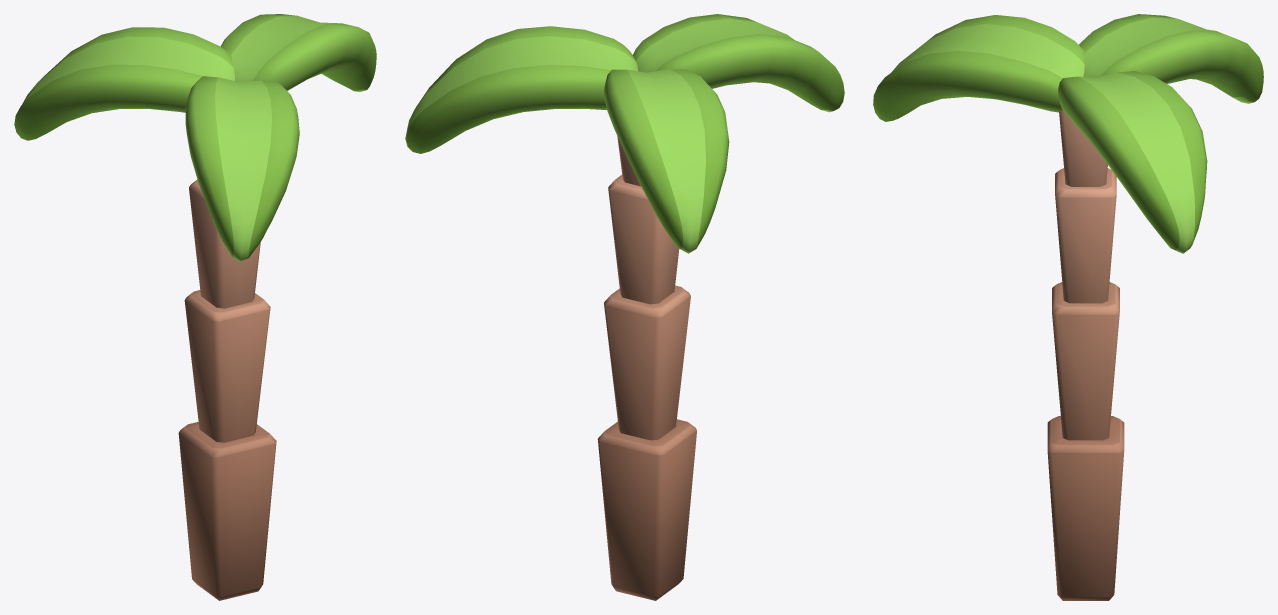
File: palm_3.fbx
3 views of the same model, side by side, from view 1: azimuth 30°, elevation 25°; view 2: azimuth 150°, elevation 25°; view 3: azimuth 270°, elevation 25° (orthographic). The views are drawn at different scales.
Visible parts, largest first — view 1: palm_3; view 2: palm_3; view 3: palm_3.
Boxes of the visible parts, left/top/right/bottom form: palm_3: left=14, top=14, right=376, bottom=600; palm_3: left=405, top=14, right=844, bottom=600; palm_3: left=873, top=14, right=1263, bottom=600.
Bounding box in the file's own units: 159 × 248 × 162.
Materials: 1 (1 with a texture image).
